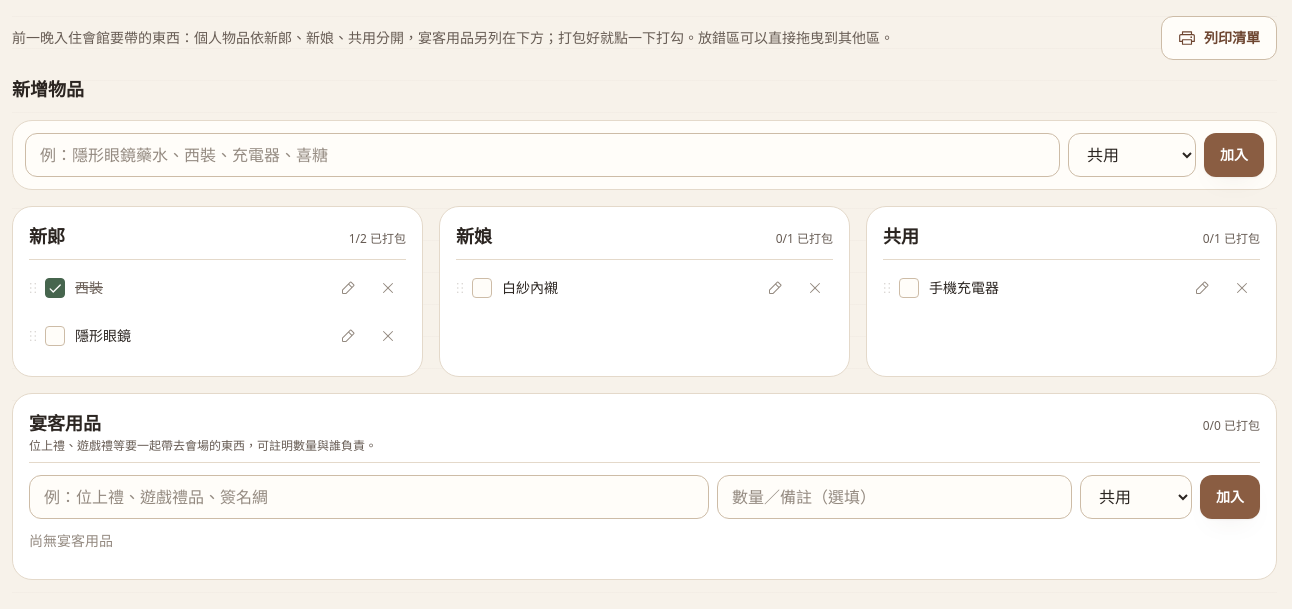
Test: PackingList › lets an added item be edited inline and cancelled
Click the button named "編輯：手機充電器": point(1202, 288) [1184,270,1220,306]
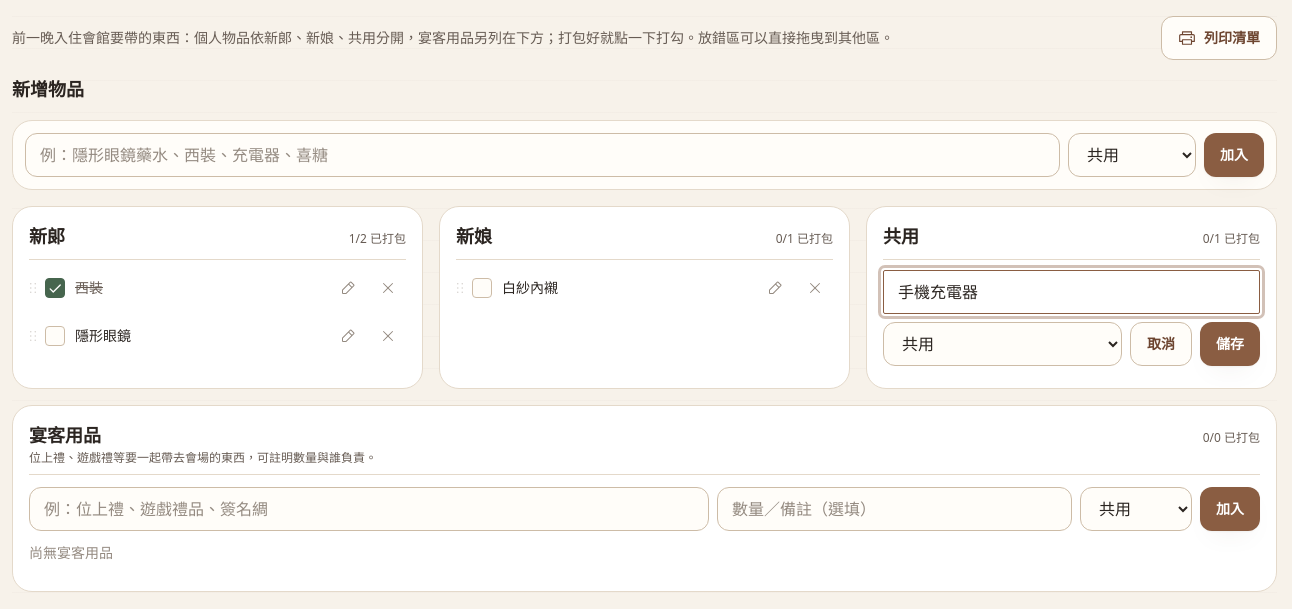
Result: the field named "編輯物品名稱" holds "手機充電器" at [883,270,1260,314]
Result: the 2nd dropdown named "誰要帶" shows "共用" at [883,322,1122,366]
Result: the button "儲存" is shown at [1200,322,1260,366]
Click the button "取消": point(1161, 344) [1130,322,1192,366]
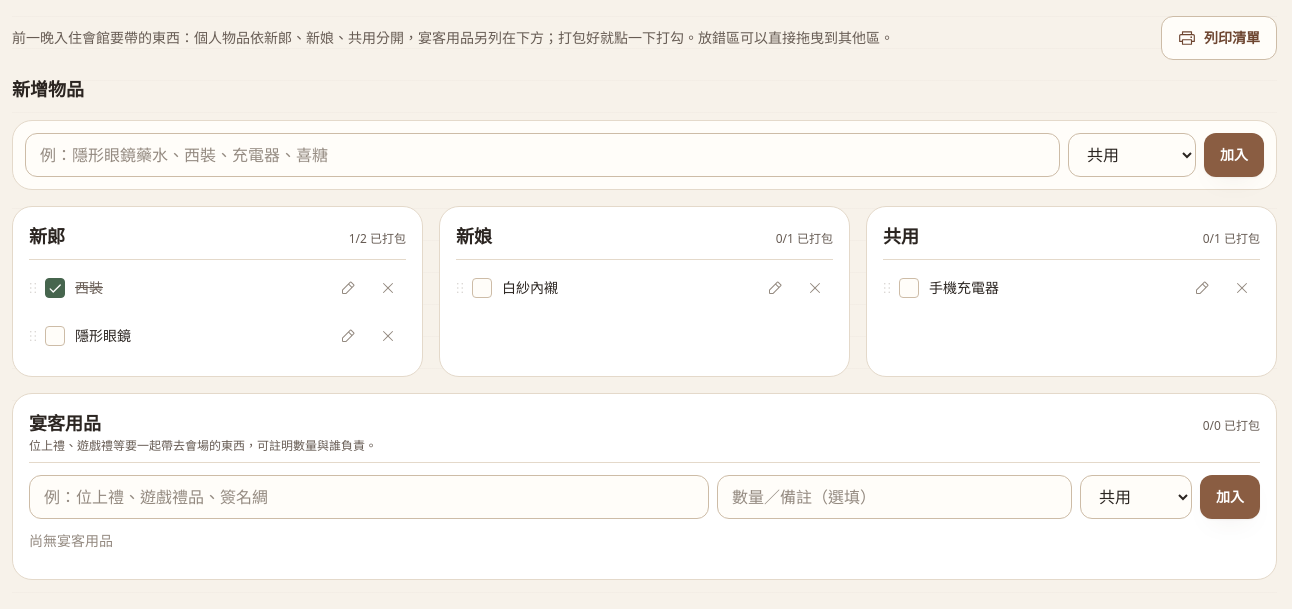
Expected: the field labelled "編輯物品名稱" is not shown
Result: the text "手機充電器" is shown at [929,278,999,298]
